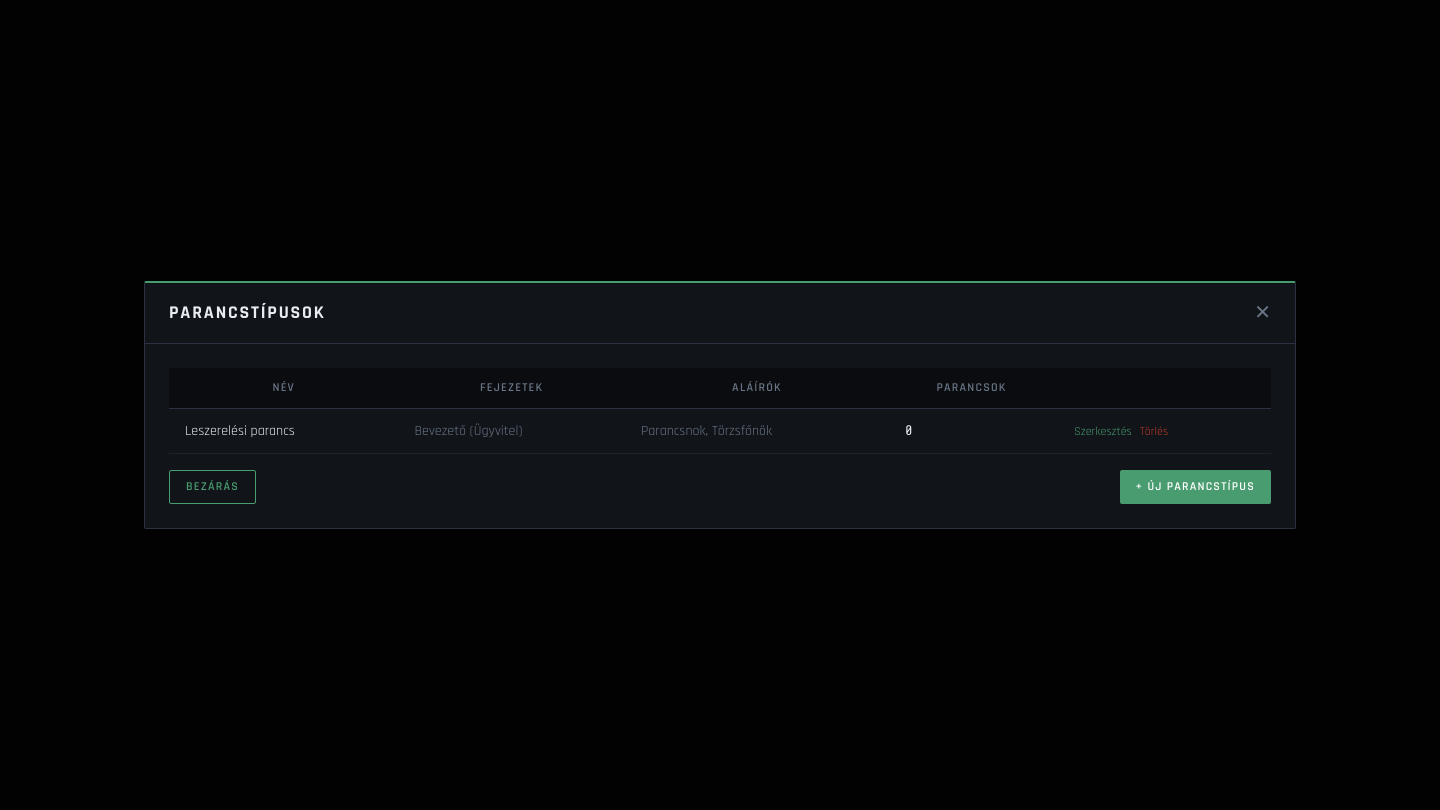
Scenario: parancstípus szerkesztő — aláírók › hozzáadott üres aláíró is törölhető
The image size is (1440, 810).
Click the button "Szerkesztés" at (1103, 432), box top-left (1070, 424), bottom-right (1136, 440)
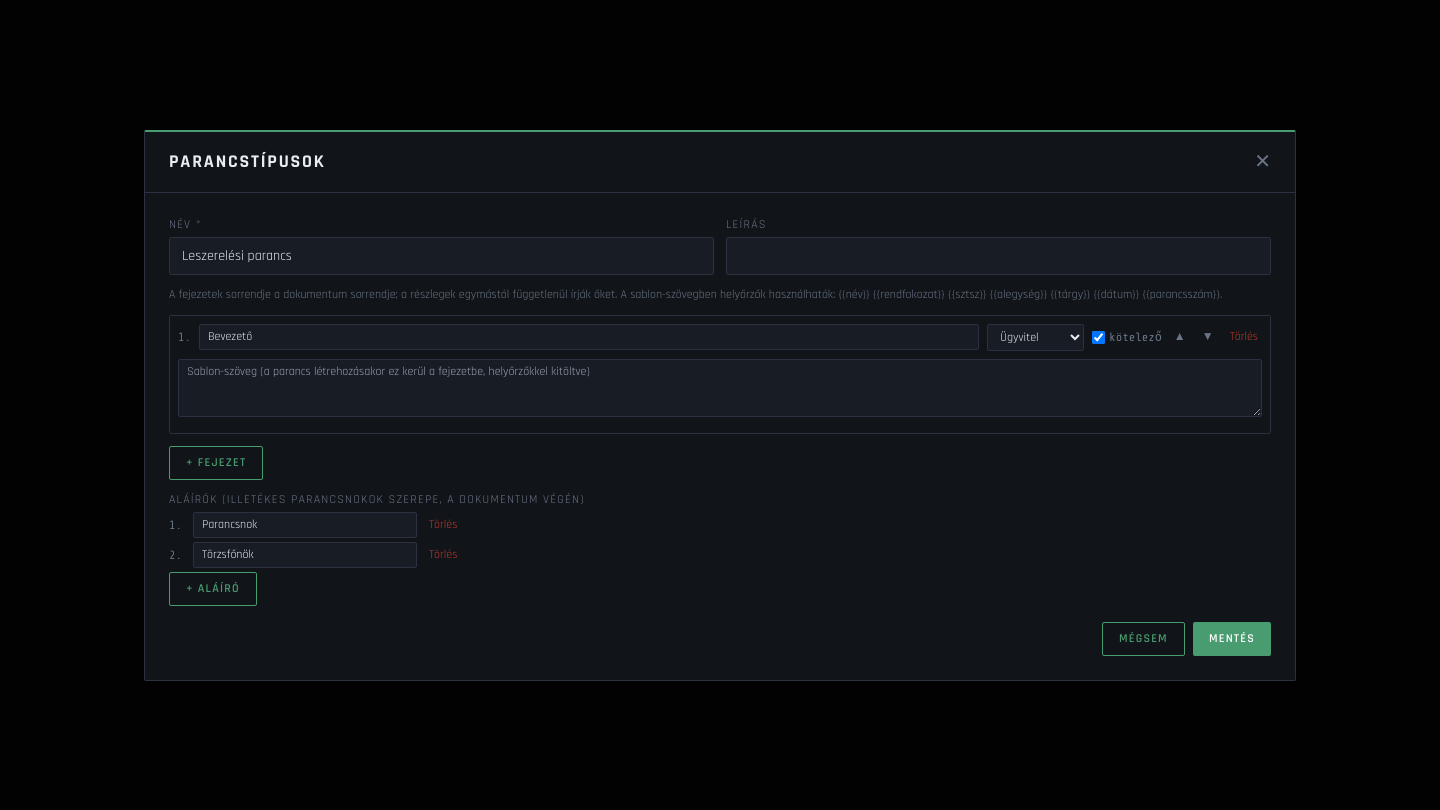
Click the button "+ Aláíró" at (213, 588), box top-left (169, 572), bottom-right (257, 606)
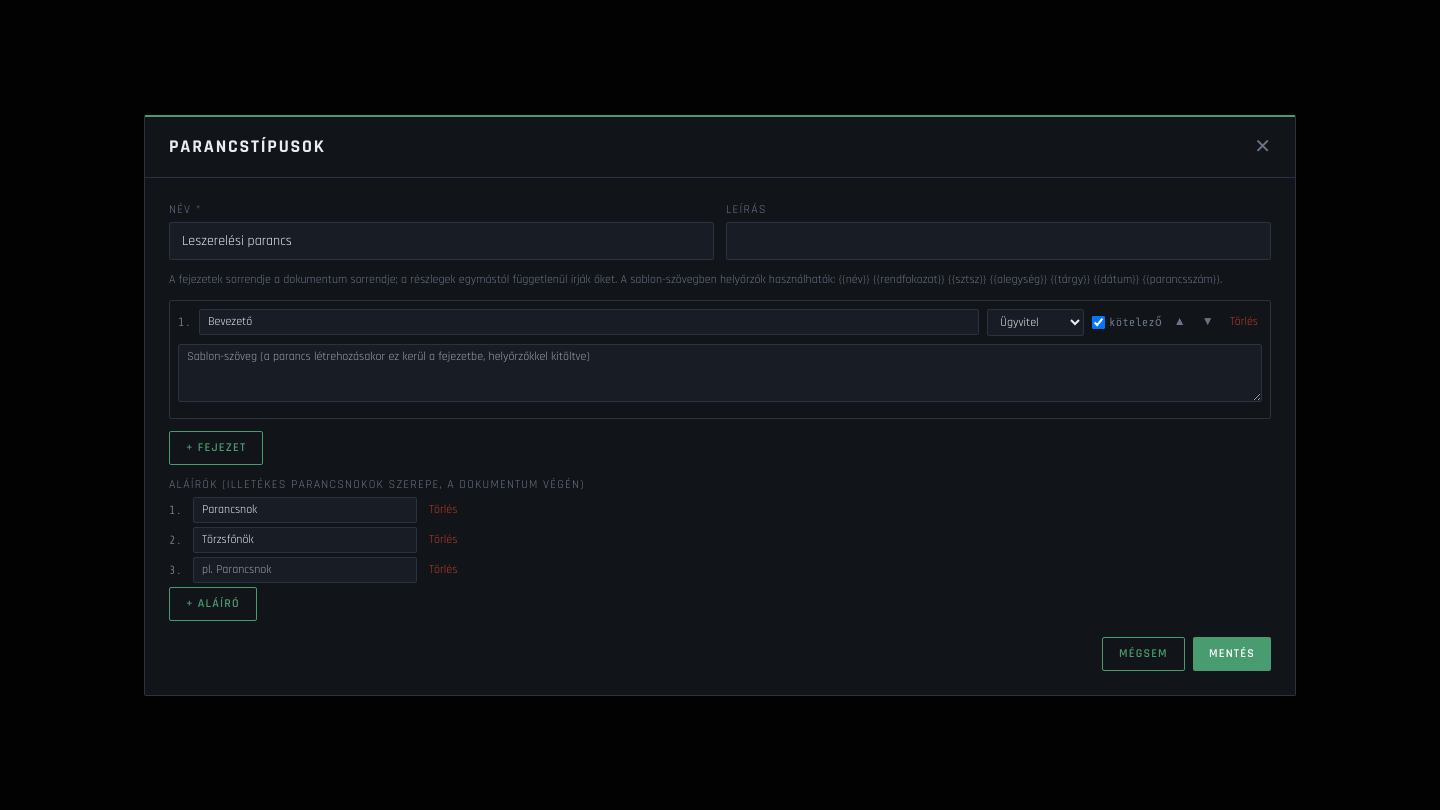
Expected: the number of buttons titled "Aláíró törlése" is 3
Click the 4th button titled "Aláíró törlése" at (443, 570), box top-left (425, 562), bottom-right (461, 578)
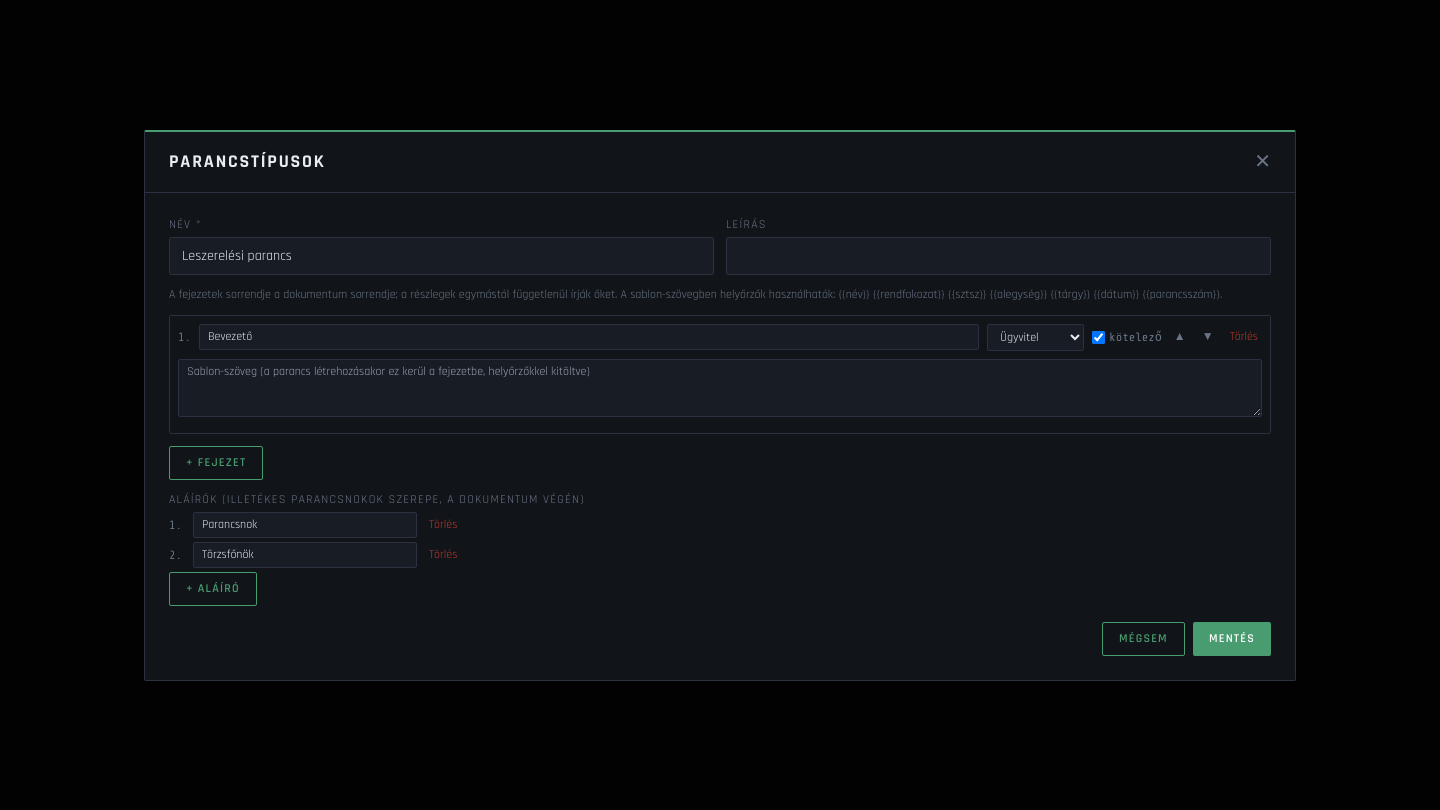
Expected: the number of buttons titled "Aláíró törlése" is 2, top-left (425, 516), bottom-right (461, 532); top-left (425, 546), bottom-right (461, 562)
